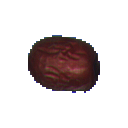gd: (20, 21, 114, 118)
